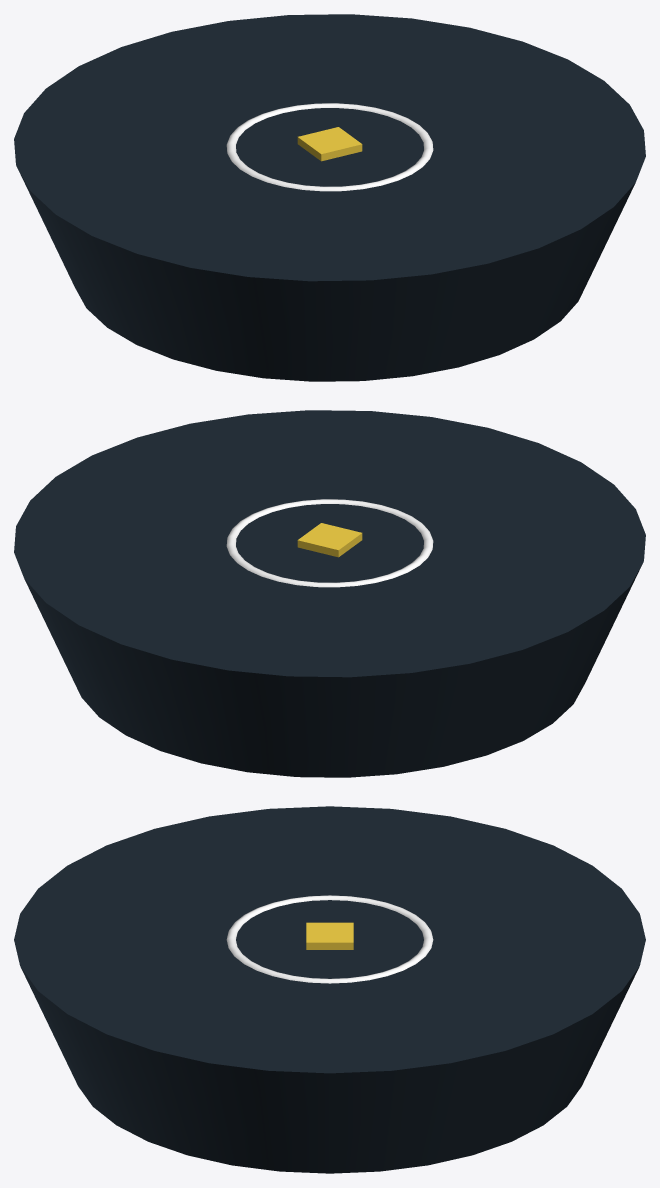
Rendered from dal-makhani.glb.
3 renders of one model, top to bottom at view 1: azimuth 30°, elevation 25°; view 2: azimuth 150°, elevation 25°; view 3: azimuth 270°, elevation 25°, orthographic.
Bounding box in the file's own units: 1.6 × 0.37 × 1.6.
